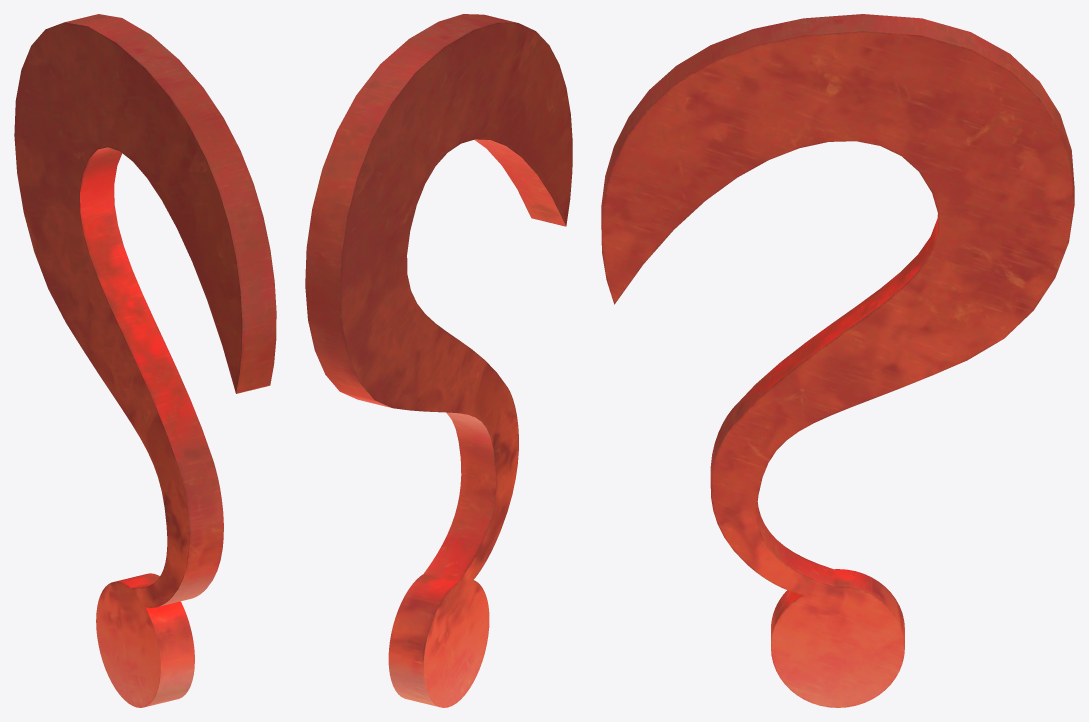
Rendered from Question 3.glb.
3 renders of one model, left to right at view 1: azimuth 30°, elevation 25°; view 2: azimuth 150°, elevation 25°; view 3: azimuth 270°, elevation 25°, orthographic. The views are drawn at different scales.
Visible parts, largest first — view 1: Question 3.001; view 2: Question 3.001; view 3: Question 3.001.
Boxes of the visible parts, x1,y1,x2,y2 form: Question 3.001: [14, 14, 276, 707]; Question 3.001: [305, 14, 572, 707]; Question 3.001: [601, 14, 1074, 707].
Bounding box in the file's own units: 0.0319 × 0.5798 × 0.3675.
1 material, 1 textured.
